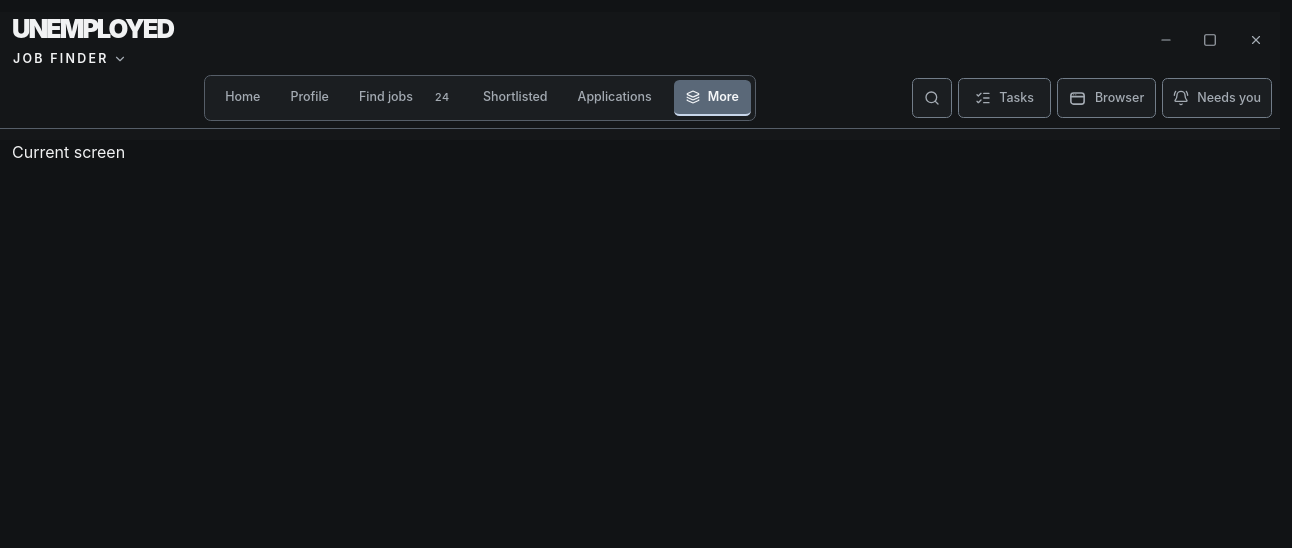
JobFinderShell section navigation › counts extra search plans in the More menu without treating plans as attention
Click the button "More" at coordinates (712, 98), box [674, 80, 751, 116]
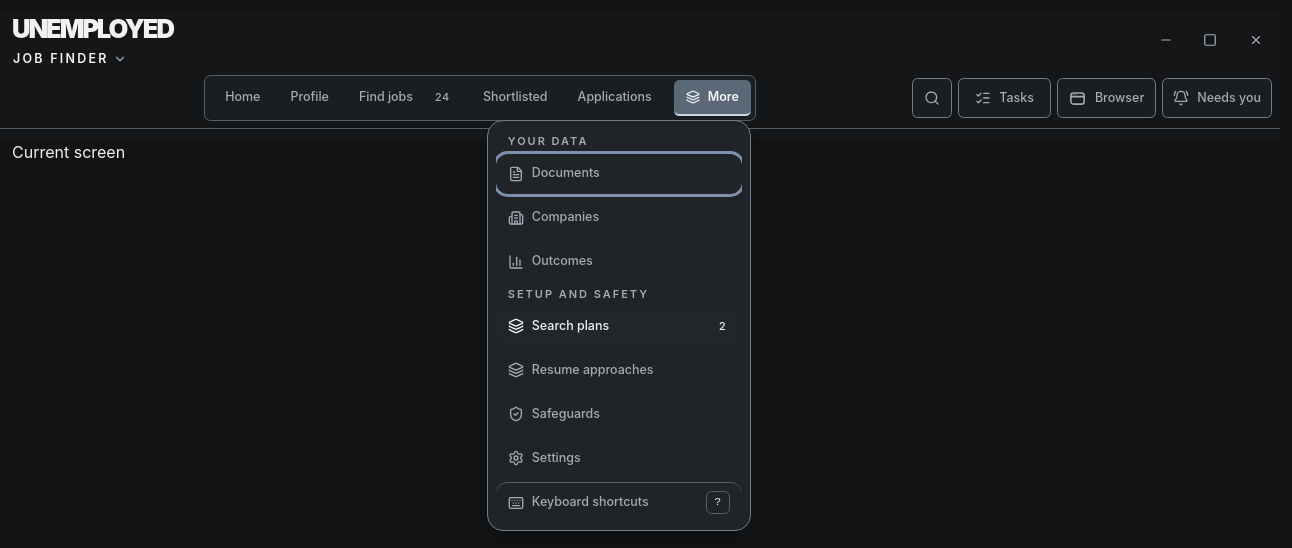
Result: the button "Search plans 2" is shown at [496, 306, 742, 346]
